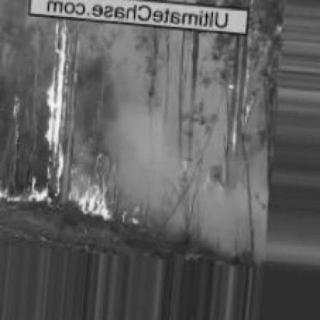Fire: (4, 22, 137, 214)
